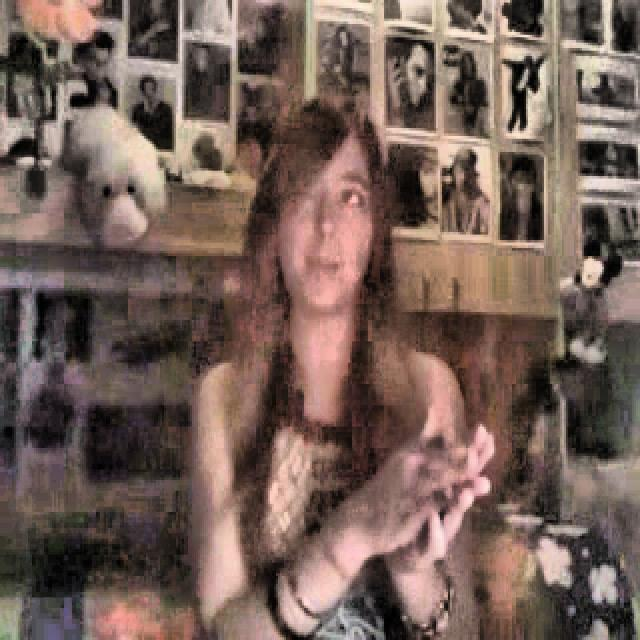F: (178, 97, 478, 640)
